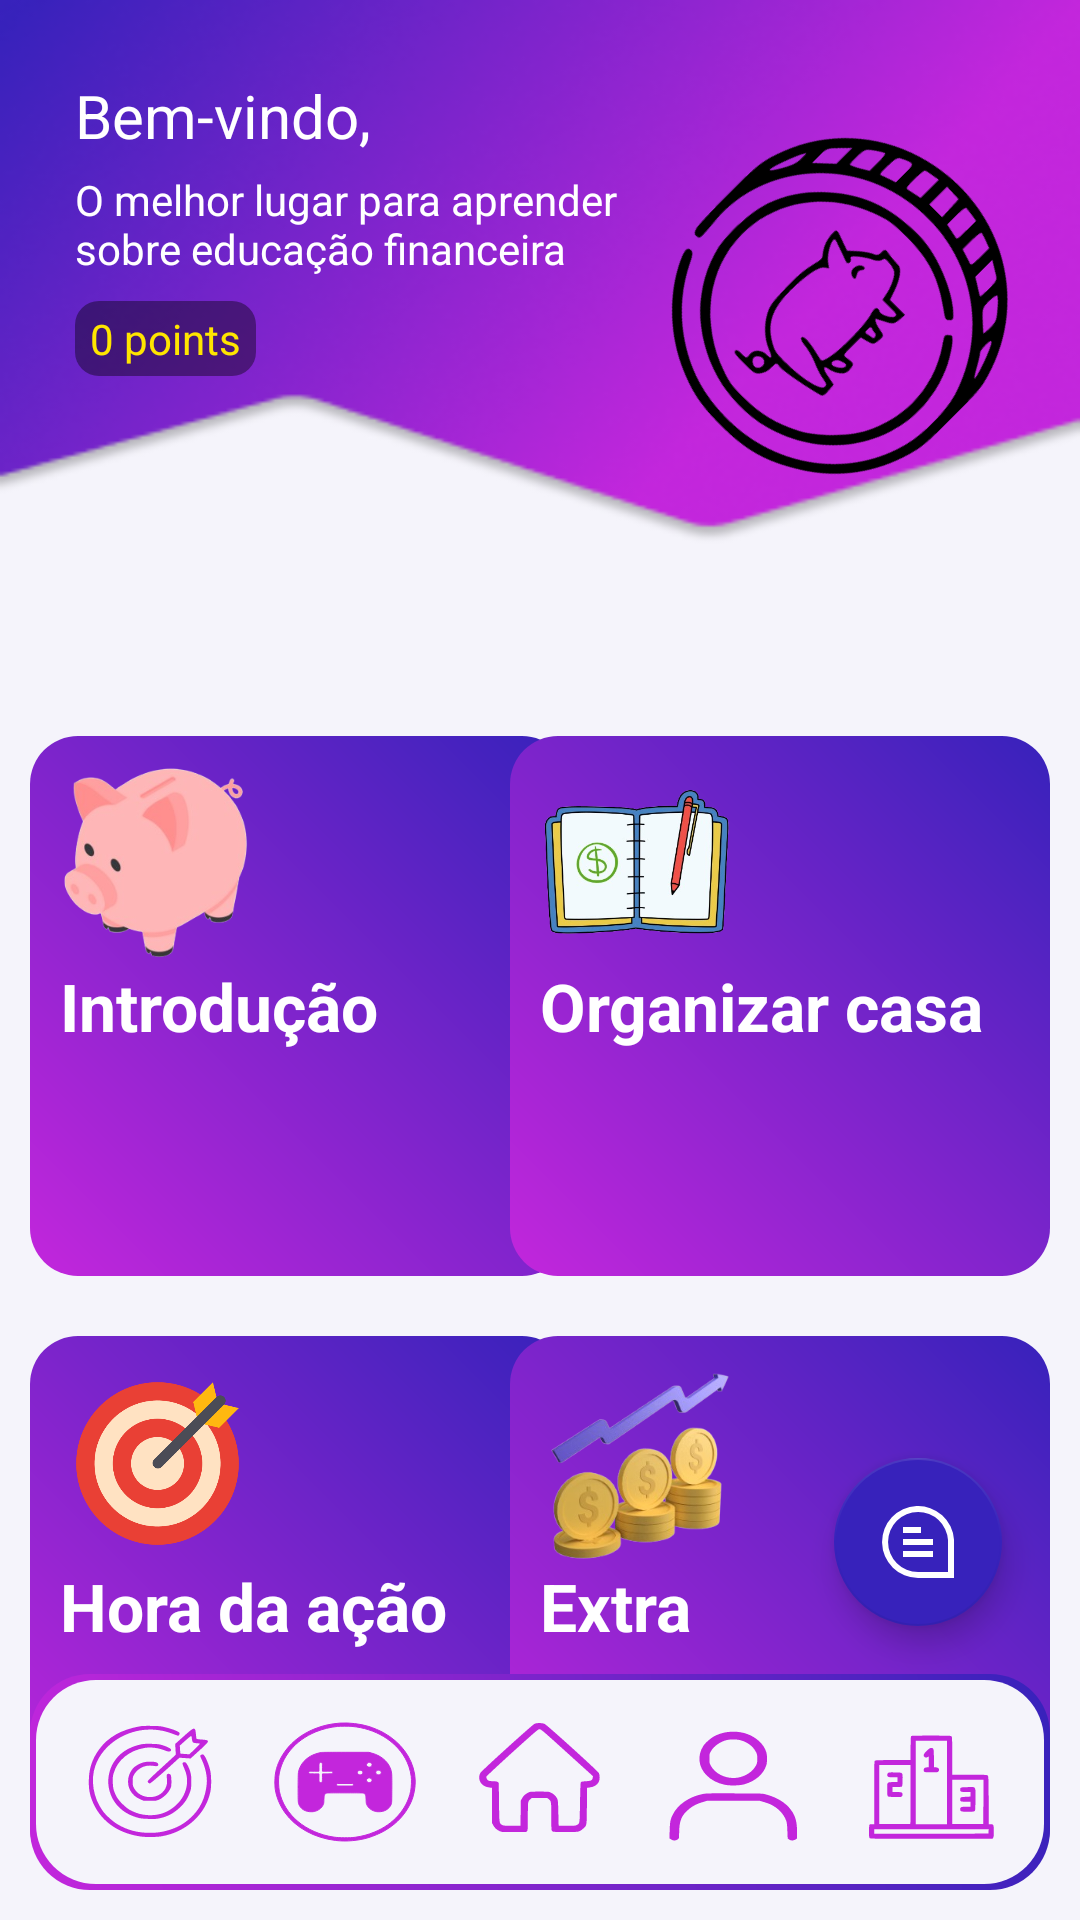

Icons on this 1080px×1920px Android screen, each with the point to tap as [x,y]:
chat: [918,1542]
control: [345,1782]
home: [539,1777]
notes: [637,862]
person: [733,1786]
pig: [155,862]
ranking: [931,1787]
variable income: [640,1466]
